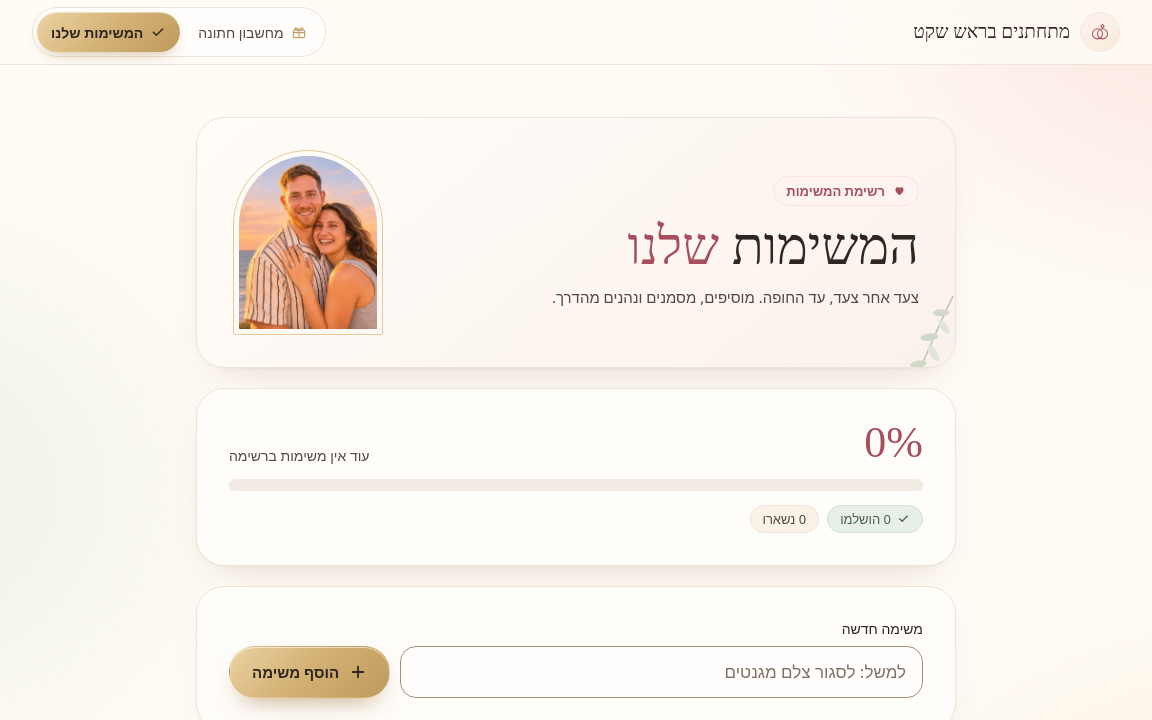
Scenario: Tasks page — empty state and adding › adds a task with Enter, clears the field and keeps focus there
The width and height of the screenshot is (1152, 720).
Type "לסגור צלם מגנטים" into the field labelled "משימה חדשה" at coordinates (665, 672), box 407,648 -> 922,695
Then press Enter
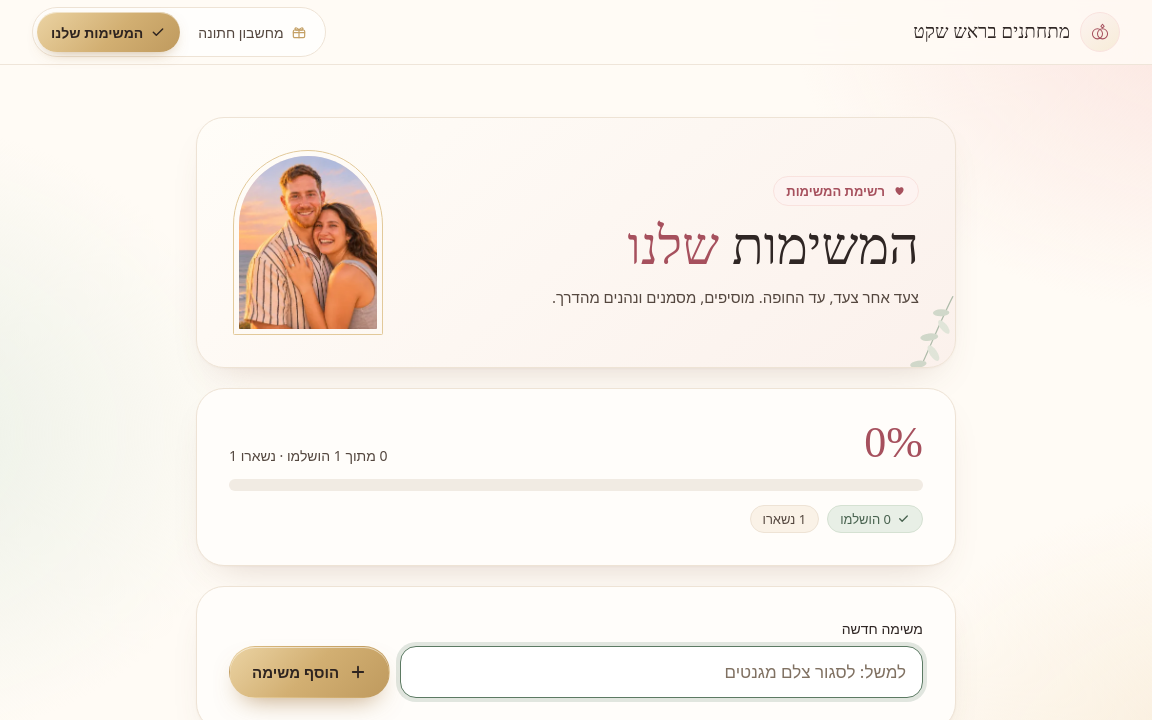
Result: the text "0 מתוך 1 הושלמו · נשארו 1" is shown at 229,446 -> 388,464
